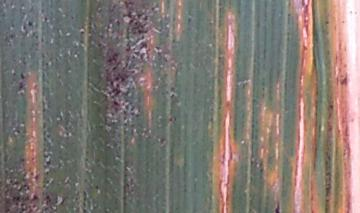tarspot: (98, 58, 142, 132), (117, 1, 165, 58), (4, 160, 40, 213), (41, 147, 51, 178), (17, 68, 26, 92), (157, 131, 168, 146), (163, 112, 176, 124), (24, 19, 34, 28)
